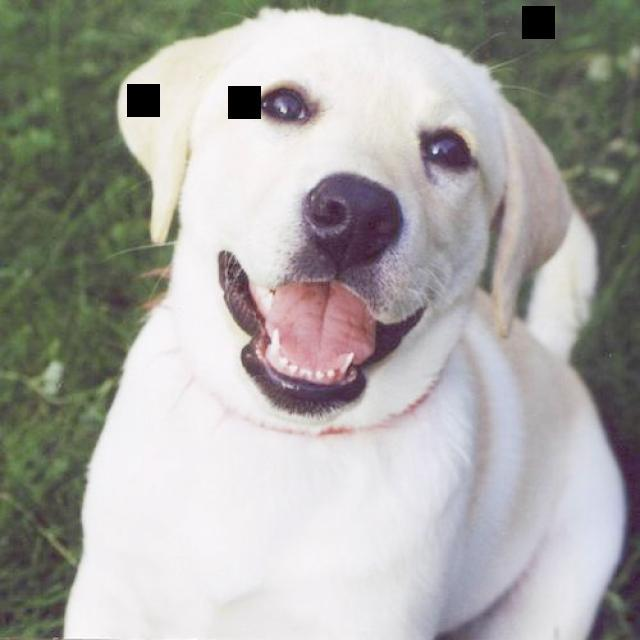puppy-dog: (56, 4, 630, 640)
